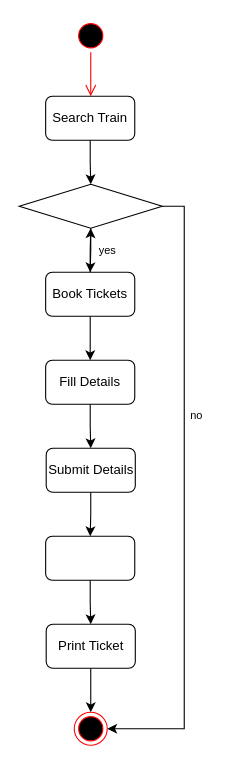
Some shapes in this 232 by 765 pixel diagram are drawn without their labels. Each missing label, with the centre of its shape:
"Check Tickets Availability" belongs at (x=90, y=205).
"Make Payment" belongs at (x=90, y=557).
